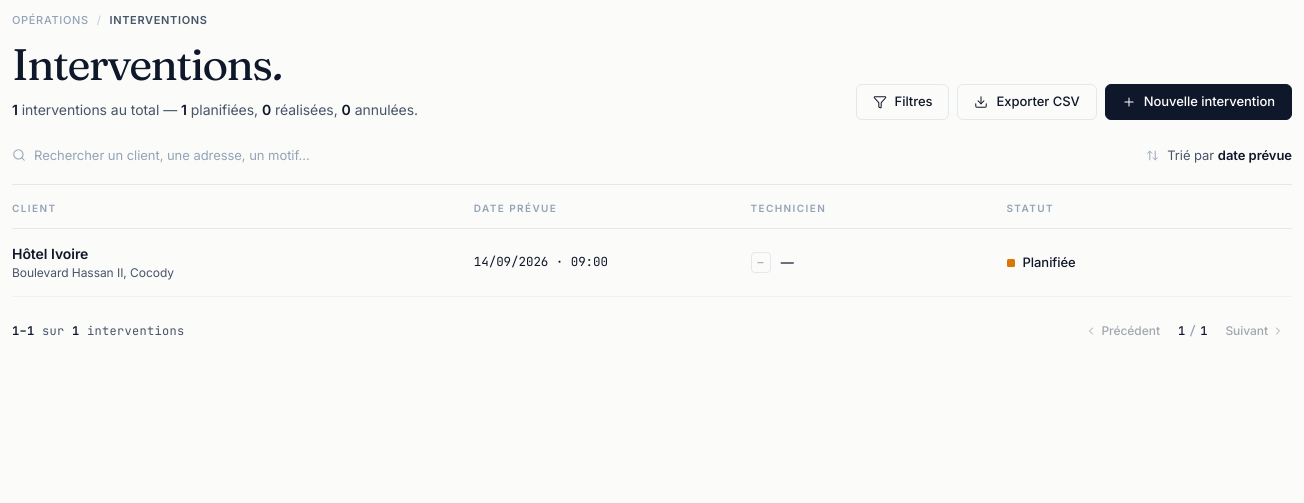
Test: InterventionsListe › filtre par mot-cle via la barre de recherche et reinitialise
The image size is (1304, 503).
Expected: the text "Hôtel Ivoire" is shown, [12, 245, 88, 262]
Type "climatisation" into the field named "Rechercher une intervention".
click(183, 155); type("climatisation")  # box [34, 146, 332, 165]
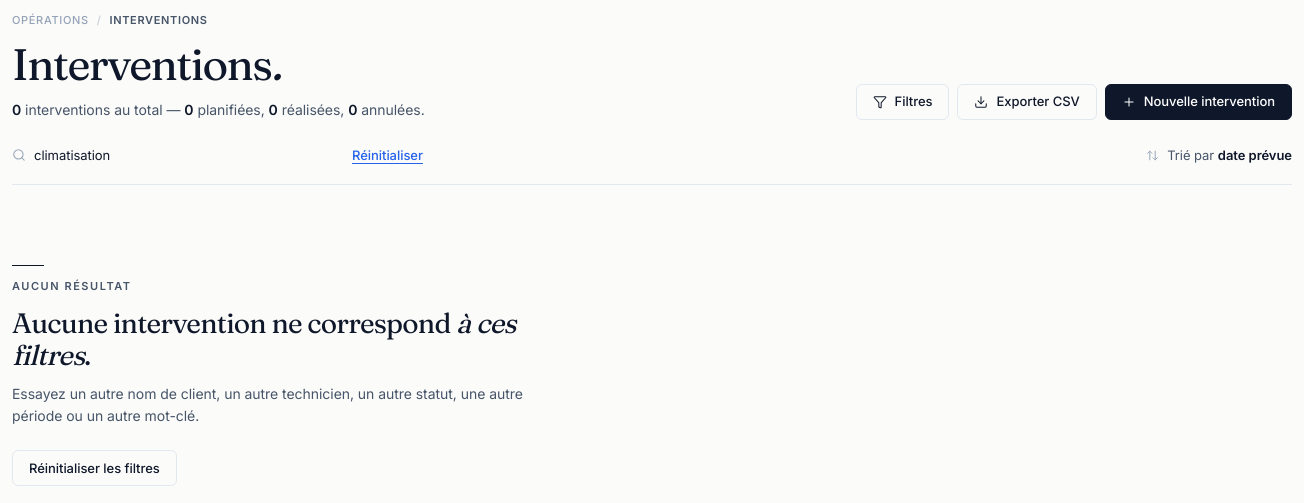
Result: the heading "Aucune intervention ne correspond à ces filtres." is shown at [12, 307, 532, 371]
Click the button "Réinitialiser".
click(387, 156)  # box [352, 146, 423, 166]
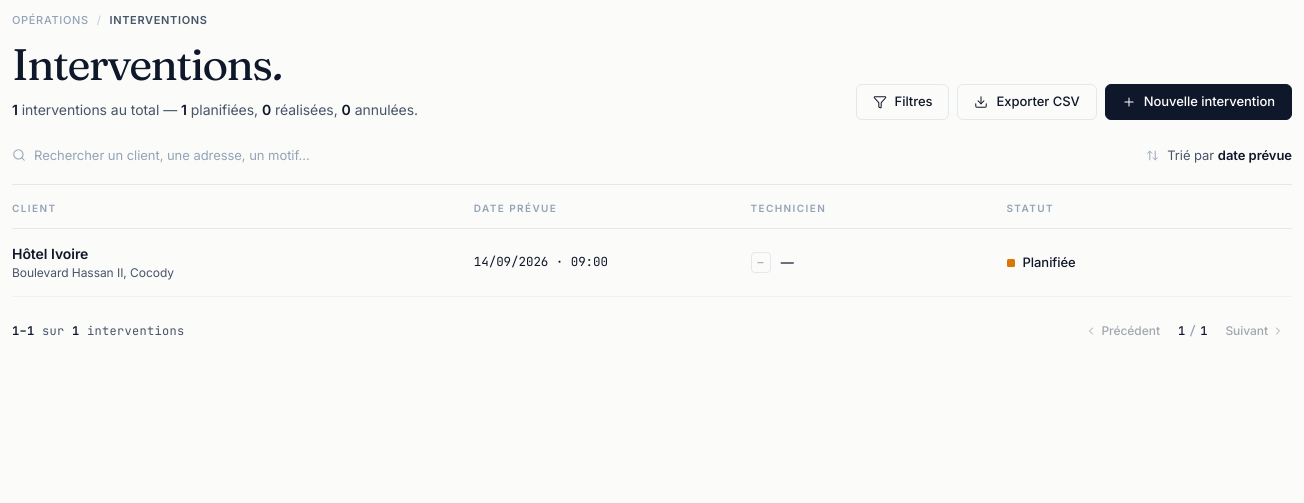
Result: the text "Hôtel Ivoire" is shown at [12, 245, 88, 262]
